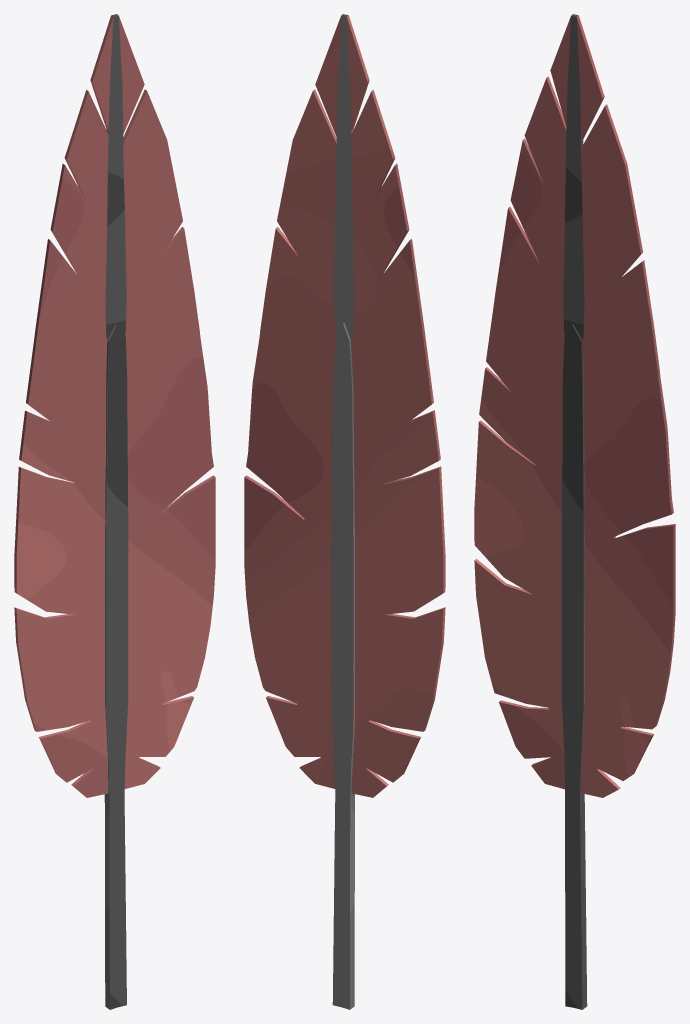
File: KusTüyü.fbx
3 renders of one model, left to right at view 1: azimuth 30°, elevation 25°; view 2: azimuth 150°, elevation 25°; view 3: azimuth 330°, elevation 25°, orthographic.
Parts seen in each view (by area): view 1: kuş_tüyü; view 2: kuş_tüyü; view 3: kuş_tüyü.
Part boxes in pixels (bbox=[...]): kuş_tüyü: bbox=[14, 14, 215, 1009]; kuş_tüyü: bbox=[244, 14, 445, 1009]; kuş_tüyü: bbox=[474, 14, 675, 1009].
Bounding box in the file's own units: 9.35 × 44.46 × 0.3897.
1 material, 1 textured.
